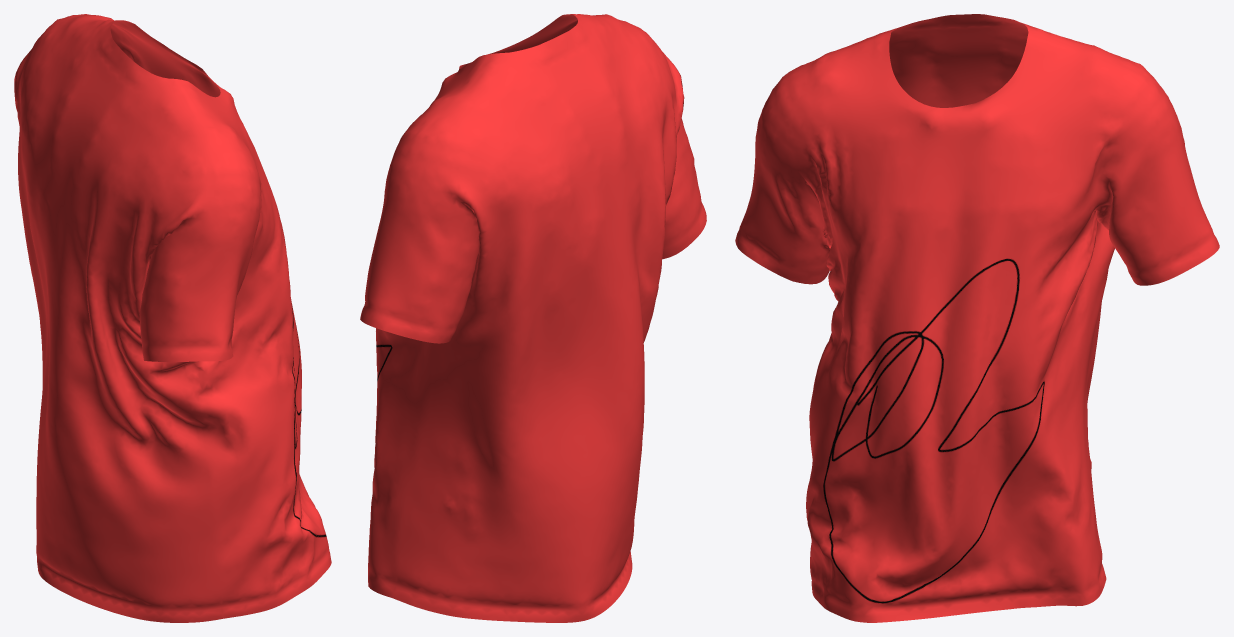
File: 1753803483149-lugaFata.glb
3 views of the same model, side by side, from view 1: azimuth 30°, elevation 25°; view 2: azimuth 150°, elevation 25°; view 3: azimuth 270°, elevation 25° (orthographic). The views are drawn at different scales.
Parts seen in each view (by area): view 1: Material1722, Material1718, Material1724, Material1720; view 2: Material1722, Material1724, Material1718, Material1720; view 3: Material1718, Material1724, Material1722, Material1720.
Boxes of the visible parts, x1,y1,x2,y2 form: Material1722: [14, 14, 223, 622]; Material1718: [88, 14, 331, 618]; Material1724: [16, 29, 260, 362]; Material1720: [102, 20, 230, 105]; Material1722: [392, 14, 677, 622]; Material1724: [360, 41, 706, 343]; Material1718: [368, 14, 629, 597]; Material1720: [454, 14, 586, 76]; Material1718: [776, 35, 1144, 622]; Material1724: [735, 75, 1219, 285]; Material1722: [783, 20, 1151, 586]; Material1720: [876, 14, 1038, 119].
Size of the model in its own units: 32.85 by 70.89 by 56.91.
4 materials, 2 textured.
